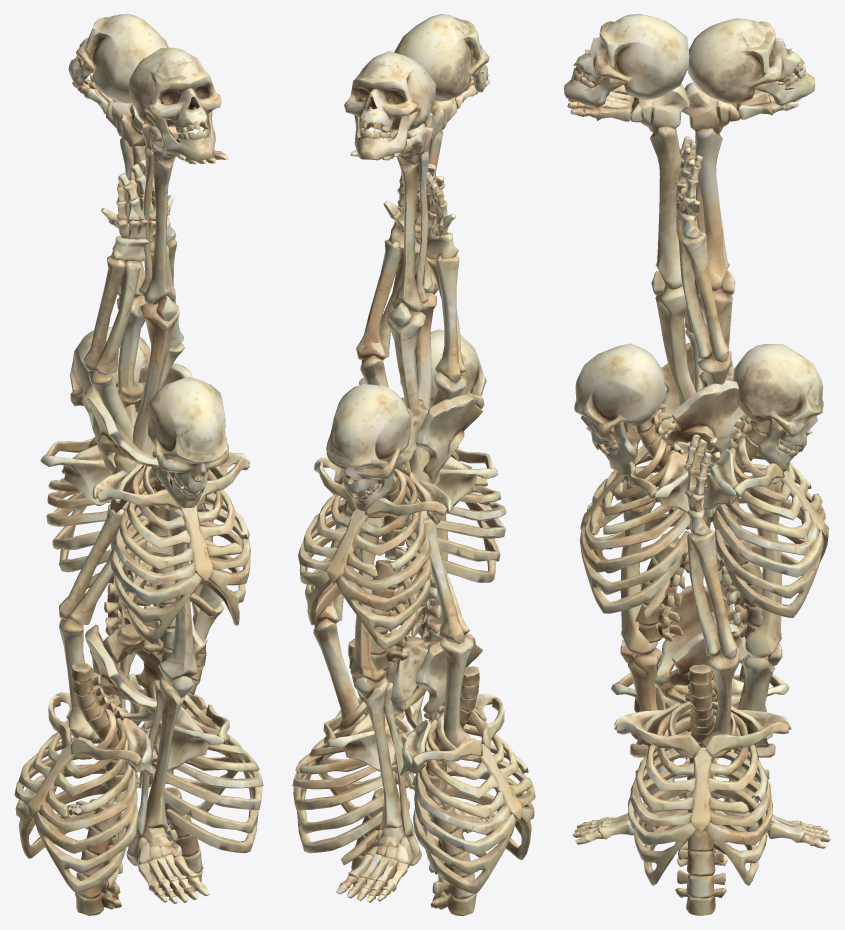
The picture shows the model from 3 angles, left to right: view 1: azimuth 30°, elevation 25°; view 2: azimuth 150°, elevation 25°; view 3: azimuth 270°, elevation 25°; orthographic projection.
Visible parts, largest first — view 1: SM_Skeleton_Effigy_01_v1_LOD0; view 2: SM_Skeleton_Effigy_01_v1_LOD0; view 3: SM_Skeleton_Effigy_01_v1_LOD0.
Part boxes in pixels (x1,y1,x2,y2): SM_Skeleton_Effigy_01_v1_LOD0: (14, 14, 263, 915); SM_Skeleton_Effigy_01_v1_LOD0: (292, 14, 535, 915); SM_Skeleton_Effigy_01_v1_LOD0: (564, 14, 830, 915).
Size of the model in its own units: 0.5865 by 2.26 by 0.6227.
Materials: 1 (1 with a texture image).
